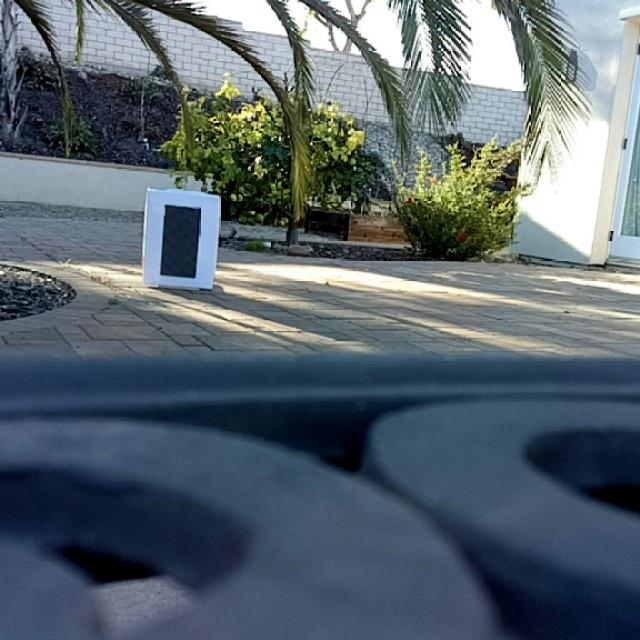led: (160, 202, 200, 278)
